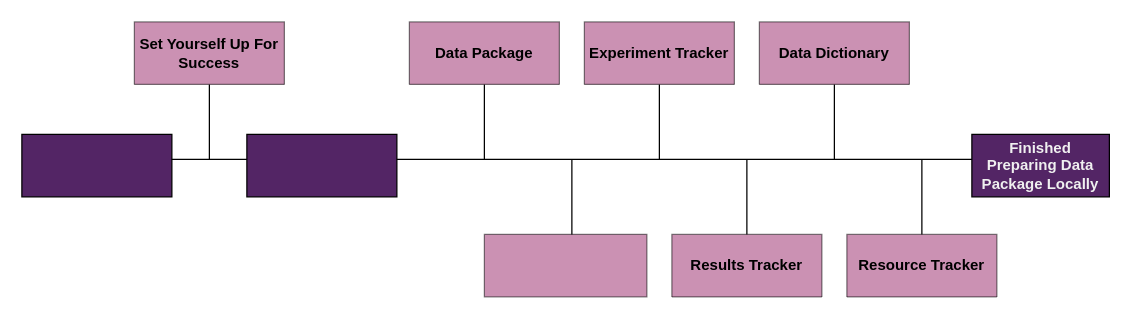
Image size: 1131x319. Some labels were removed from this diagram. Each missing label, with the box of its shape:
List results shared List contributing experiments: (483, 233, 647, 297)
Manuscript Submitted: (246, 133, 397, 197)
Right Away: (21, 133, 172, 197)
